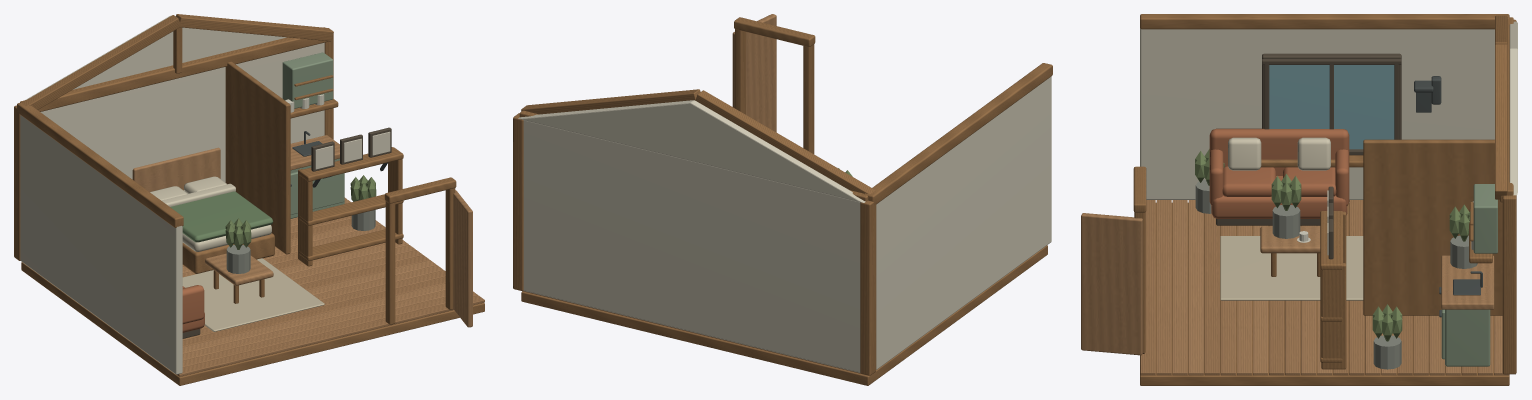
File: Lake_Interior_Sage.glb
3 views of the same model, side by side, from view 1: azimuth 30°, elevation 25°; view 2: azimuth 150°, elevation 25°; view 3: azimuth 270°, elevation 25° (orthographic). The views are drawn at different scales.
Parts seen in each view (by area): view 1: Interior_Sage; view 2: Interior_Sage; view 3: Interior_Sage.
Part boxes in pixels (box(x1,y1,x2,y2)): Interior_Sage: box(14, 14, 484, 385); Interior_Sage: box(513, 14, 1052, 385); Interior_Sage: box(1081, 14, 1517, 385).
Size of the model in its own units: 6.08 by 4.05 by 6.27.
18 materials, 5 textured.
